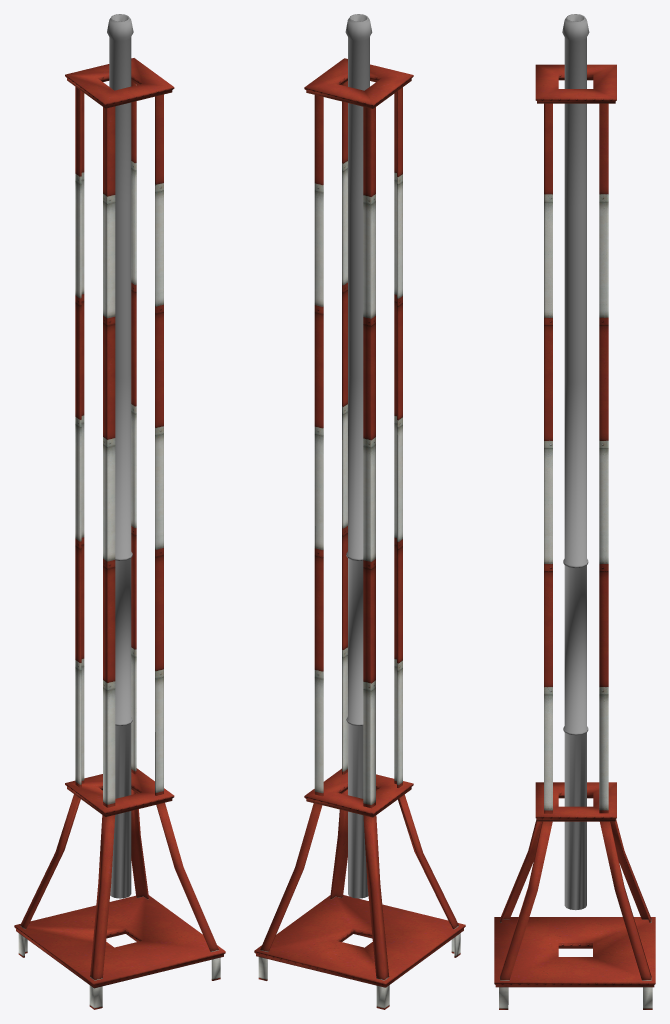
File: arieals_1_lod1.obj
3 views of the same model, side by side, from view 1: azimuth 30°, elevation 25°; view 2: azimuth 150°, elevation 25°; view 3: azimuth 270°, elevation 25° (orthographic).
Visible parts, largest first — view 1: arieals_1_lod1.obj; view 2: arieals_1_lod1.obj; view 3: arieals_1_lod1.obj.
Part boxes in pixels (x1=…): arieals_1_lod1.obj: x1=14, y1=14, x2=225, y2=1009; arieals_1_lod1.obj: x1=254, y1=14, x2=465, y2=1009; arieals_1_lod1.obj: x1=494, y1=14, x2=655, y2=1009.
Bounding box in the file's own units: 10.96 × 75.26 × 11.44.
